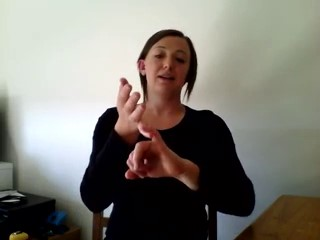S: (111, 73, 175, 182)
